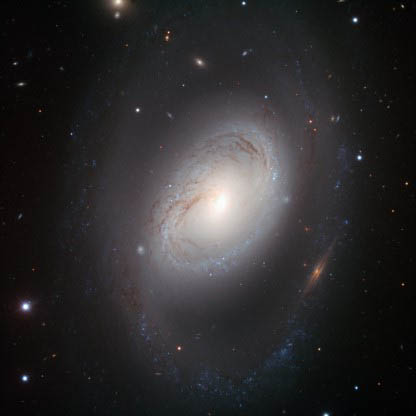Messier 96: (72, 9, 344, 396)
